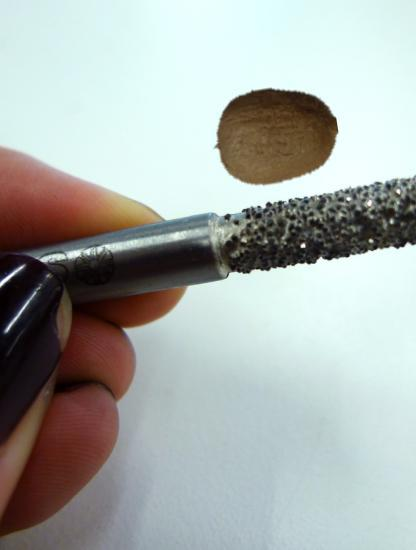Kiwi: (212, 71, 339, 198)
